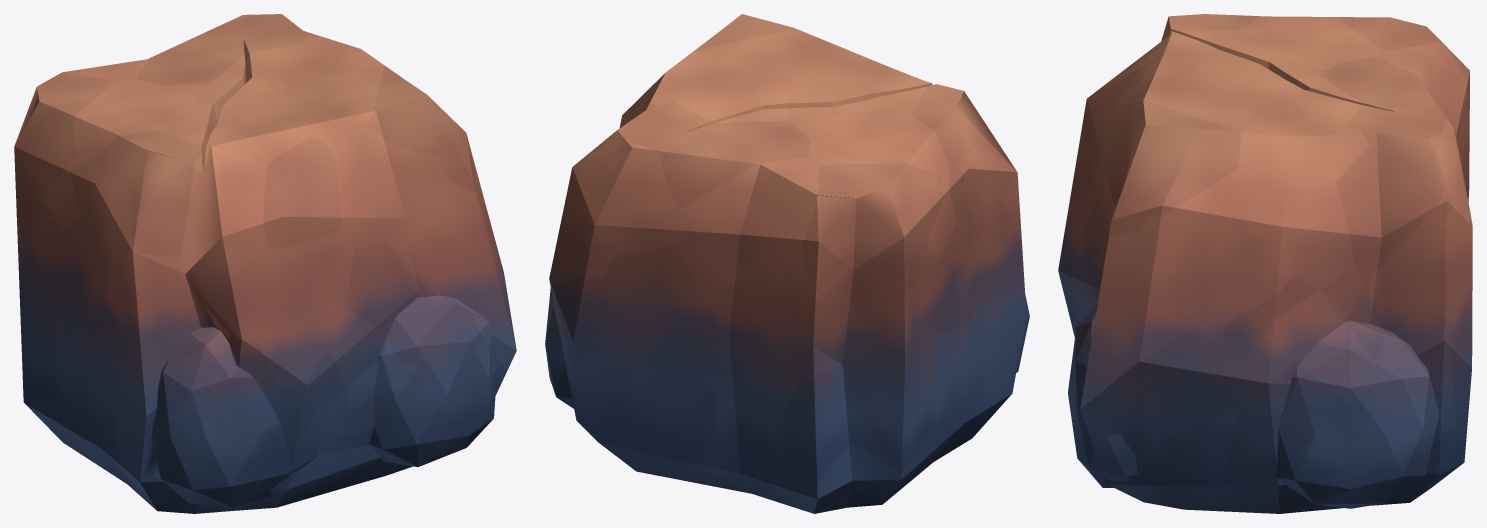
Rendered from chunky_boulder.glb.
The picture shows the model from 3 angles, left to right: view 1: azimuth 30°, elevation 25°; view 2: azimuth 150°, elevation 25°; view 3: azimuth 270°, elevation 25°; orthographic projection. The views are drawn at different scales.
Visible parts, largest first — view 1: ChunkyBoulder; view 2: ChunkyBoulder; view 3: ChunkyBoulder.
Part boxes in pixels (x1,y1,x2,y2): ChunkyBoulder: (14,14,516,513); ChunkyBoulder: (545,14,1029,513); ChunkyBoulder: (1058,14,1472,513).
Bounding box in the file's own units: 1.02 × 0.954 × 0.9476.
Materials: 1 (1 with a texture image).
